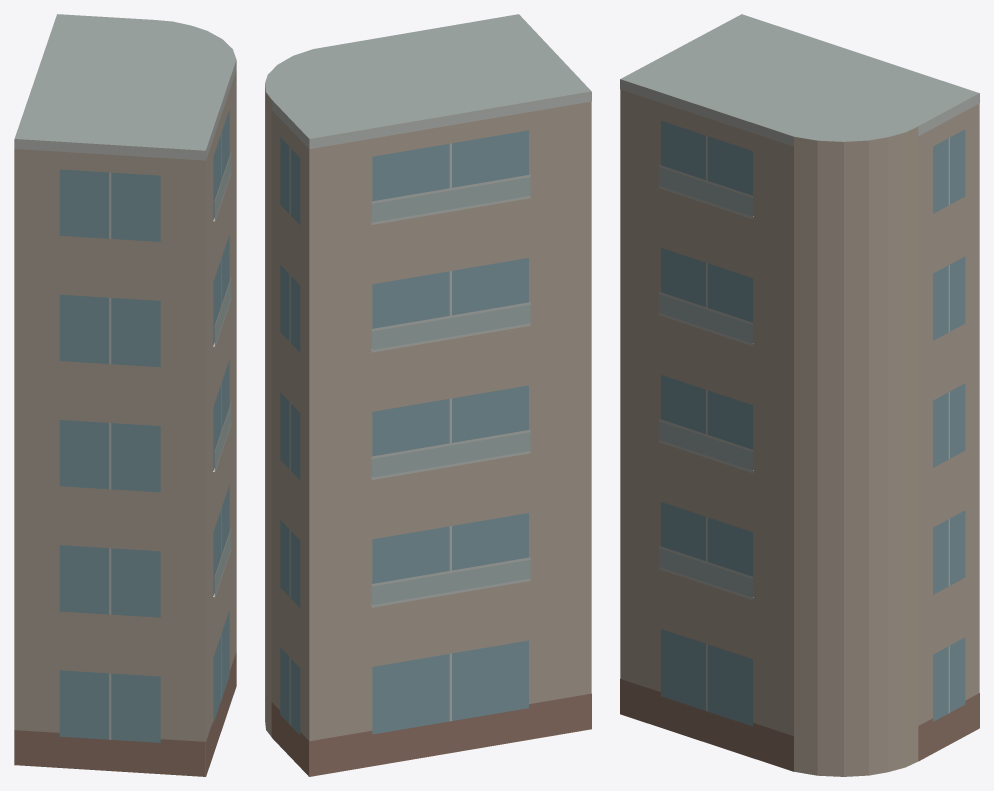
File: survey-upis-33016267.glb
The picture shows the model from 3 angles, left to right: view 1: azimuth 30°, elevation 25°; view 2: azimuth 150°, elevation 25°; view 3: azimuth 270°, elevation 25°; orthographic projection.
Parts seen in each view (by area): view 1: survey-upis-33016267.tmp; view 2: survey-upis-33016267.tmp; view 3: survey-upis-33016267.tmp.
Part boxes in pixels (x1=…): survey-upis-33016267.tmp: x1=14, y1=14, x2=236, y2=776; survey-upis-33016267.tmp: x1=265, y1=14, x2=591, y2=776; survey-upis-33016267.tmp: x1=620, y1=14, x2=979, y2=776.
Bounding box in the file's own units: 6.63 × 15.35 × 7.88.
